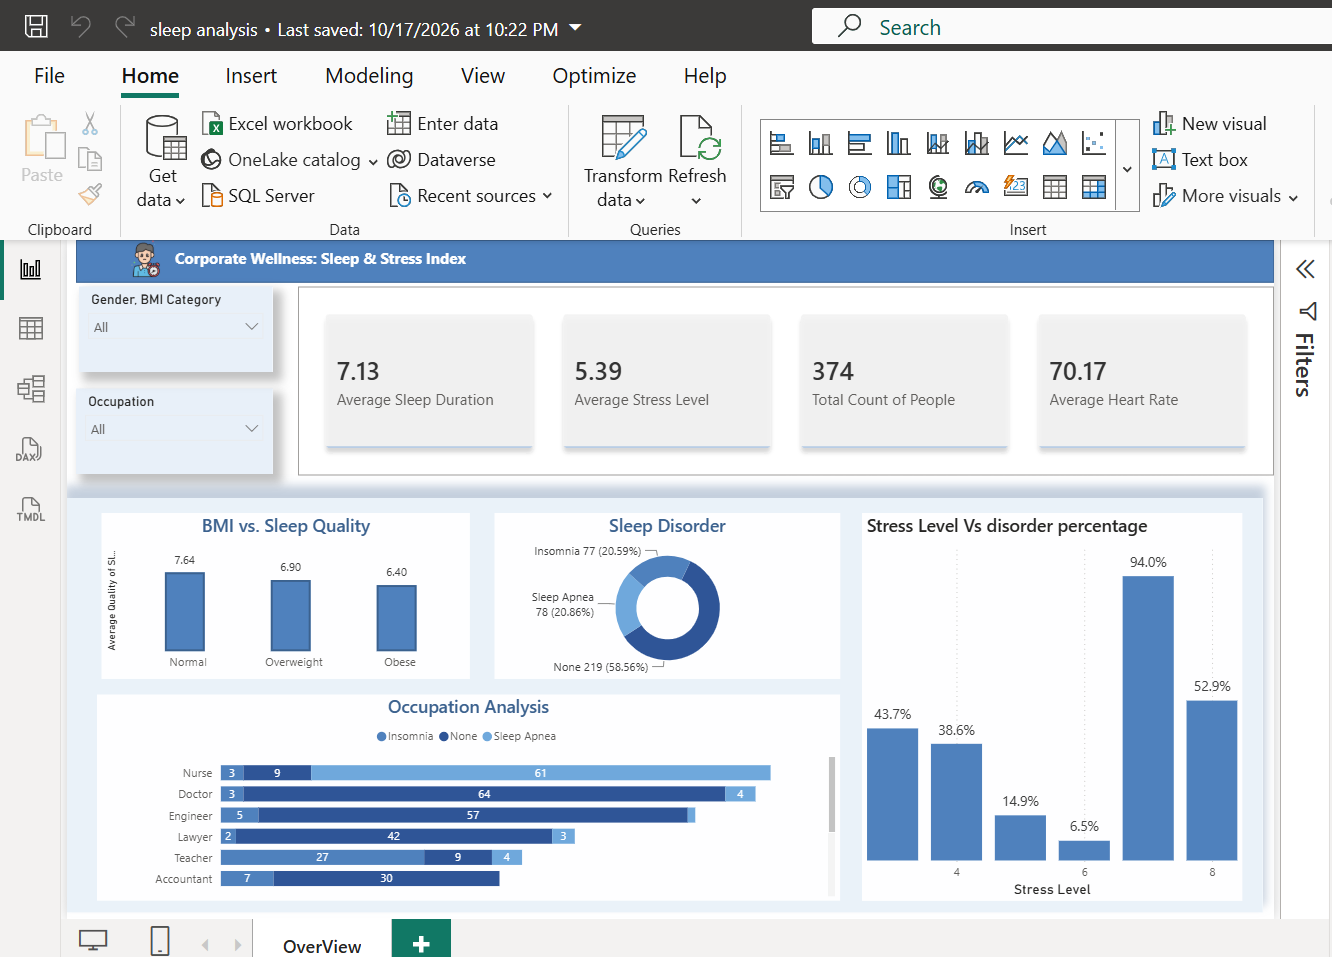

This screenshot's page, from the dashboard's own definition file:
{"tool":"powerbi","page":{"name":"OverView","canvas":[1280,720],"ordinal":0},"visuals":[{"type":"group","id":"g1","title":"Group 1","box":[9.8,0,1270.6,45.2],"z":0},{"type":"shape","box":[9.8,0,1270.6,45.2],"z":0,"group":"g1"},{"type":"textbox","box":[85.2,3.5,368.9,31.9],"z":1000,"group":"g1"},{"type":"slicer","fields":{"Values":["Sleep_health_and_lifestyle_dataset.Occupation"]},"box":[9.5,157.5,208.4,90.7],"z":1000},{"type":"image","box":[47,0,76.3,39],"z":2000,"group":"g1"},{"type":"cardVisual","fields":{"Data":["Avg(Sleep_health_and_lifestyle_dataset.Sleep Duration)","Avg(Sleep_health_and_lifestyle_dataset.Stress Level)","CountNonNull(Sleep_health_and_lifestyle_dataset.Person ID)","Avg(Sleep_health_and_lifestyle_dataset.Heart Rate)"]},"box":[244.9,49.3,1034.8,200],"z":2000},{"type":"shape","box":[0,273.6,1267.9,439.6],"z":3000},{"type":"slicer","fields":{"Values":["Sleep_health_and_lifestyle_dataset.Gender","Sleep_health_and_lifestyle_dataset.BMI Category"]},"box":[12.7,49.3,205.2,90.7],"z":4000},{"type":"donutChart","title":"Sleep Disorder","fields":{"Y":["CountNonNull(Sleep_health_and_lifestyle_dataset.Sleep Disorder)"],"Category":["Sleep_health_and_lifestyle_dataset.Sleep Disorder"]},"box":[453.7,289.6,366.6,176.2],"z":5000},{"type":"barChart","title":"Occupation Analysis","fields":{"Y":["Count(Sleep_health_and_lifestyle_dataset.Person ID)"],"Category":["Sleep_health_and_lifestyle_dataset.Occupation"],"Series":["Sleep_health_and_lifestyle_dataset.Sleep Disorder"]},"box":[32.4,482,787.8,218.7],"z":7000},{"type":"clusteredColumnChart","title":"BMI vs. Sleep Quality","fields":{"Category":["Sleep_health_and_lifestyle_dataset.BMI Category"],"Y":["Avg(Sleep_health_and_lifestyle_dataset.Quality of Sleep)"]},"box":[36.5,289.6,390.9,176.2],"z":8000},{"type":"clusteredColumnChart","title":"Stress Level Vs disorder percentage","fields":{"Category":["Sleep_health_and_lifestyle_dataset.Stress Level"],"Y":["Sleep_health_and_lifestyle_dataset.% With Disorder"]},"box":[842.5,289.6,403,411.1],"z":8002}]}

Visuals, with their boxes on the page's 1280x720 design canvas (x1, y1, x2, y2). These are canvas units, not pixel positions in the 1332x957 screenshot, which may show the page scaled, cropped or inside an application window:
"Group 1" group: 10 0 1280 45
shape: 10 0 1280 45
textbox: 85 4 454 35
slicer - Sleep_health_and_lifestyle_dataset.Occupation: 10 158 218 248
image: 47 0 123 39
cardVisual - Avg(Sleep_health_and_lifestyle_dataset.Sleep Duration) x Avg(Sleep_health_and_lifestyle_dataset.Stress Level): 245 49 1280 249
shape: 0 274 1268 713
slicer - Sleep_health_and_lifestyle_dataset.Gender x Sleep_health_and_lifestyle_dataset.BMI Category: 13 49 218 140
"Sleep Disorder" donutChart: 454 290 820 466
"Occupation Analysis" barChart: 32 482 820 701
"BMI vs. Sleep Quality" clusteredColumnChart: 36 290 427 466
"Stress Level Vs disorder percentage" clusteredColumnChart: 842 290 1246 701
